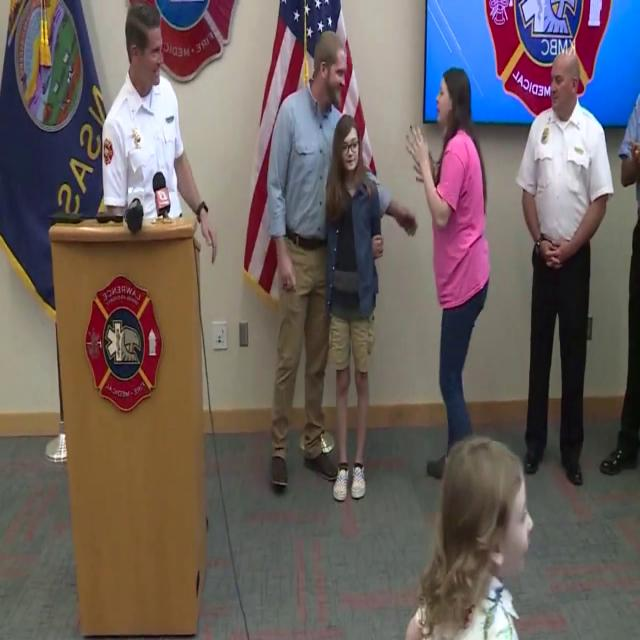adult: (99, 0, 212, 542), (263, 32, 354, 497), (520, 51, 616, 484), (415, 71, 490, 483), (327, 110, 386, 498), (599, 93, 640, 483)
child: (402, 435, 534, 640)
